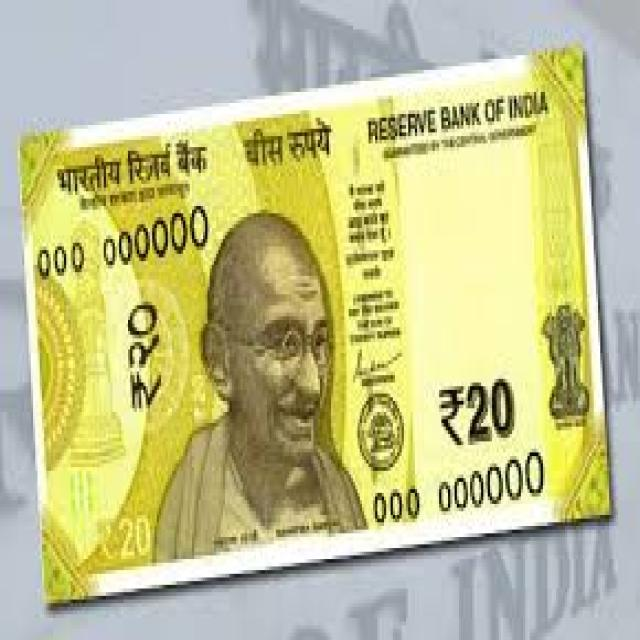20rs: (12, 89, 621, 608)
